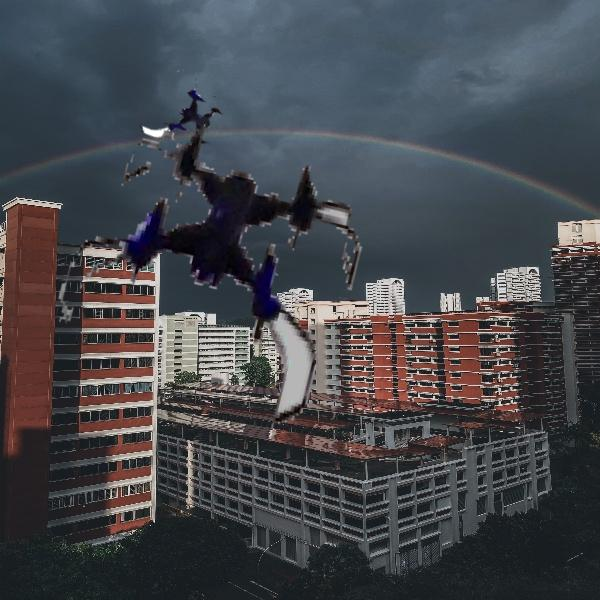drone: (55, 111, 368, 424), (143, 70, 231, 158)
